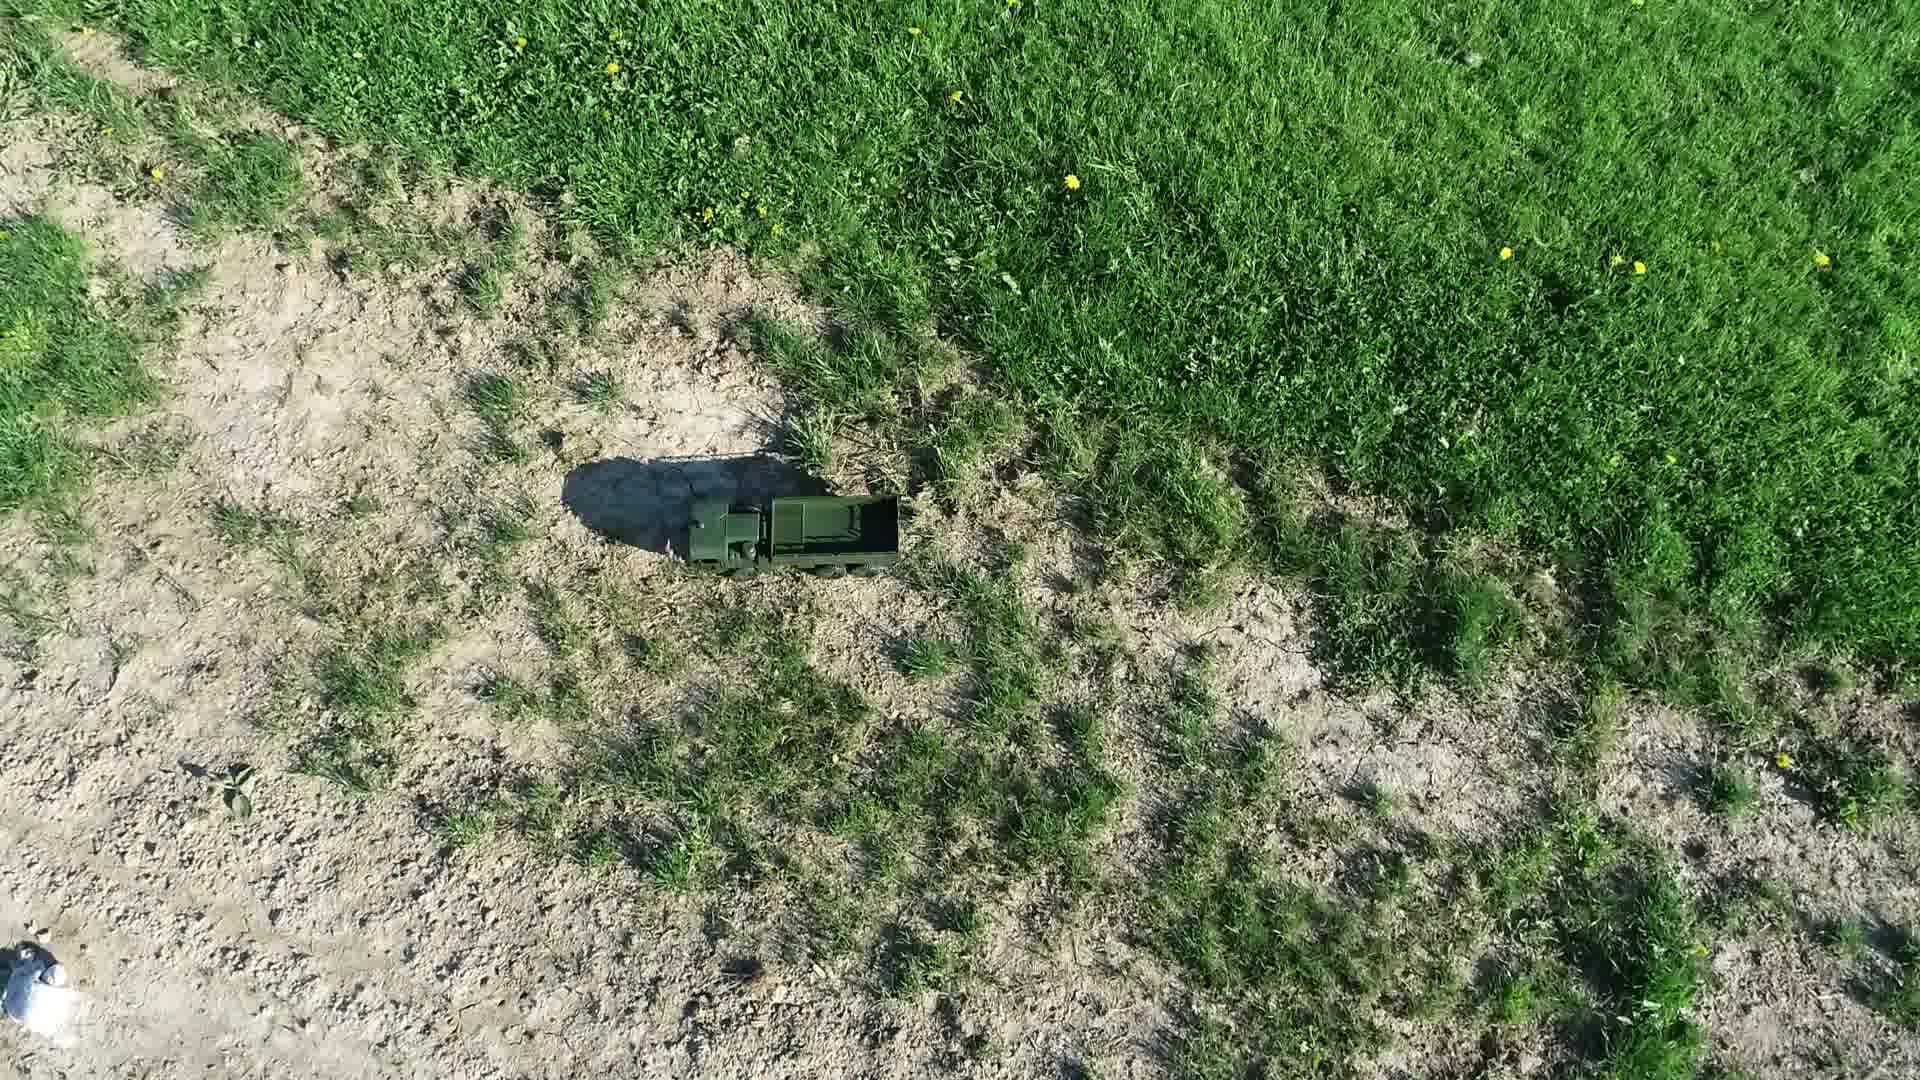transporter9: (671, 468, 920, 587)
